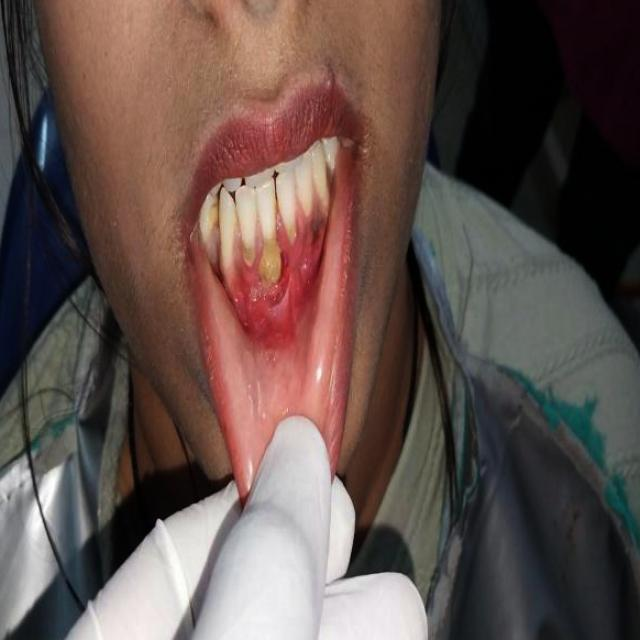CALCULUS: (259, 231, 283, 289), (240, 231, 258, 273), (285, 213, 297, 251), (318, 188, 331, 216)
